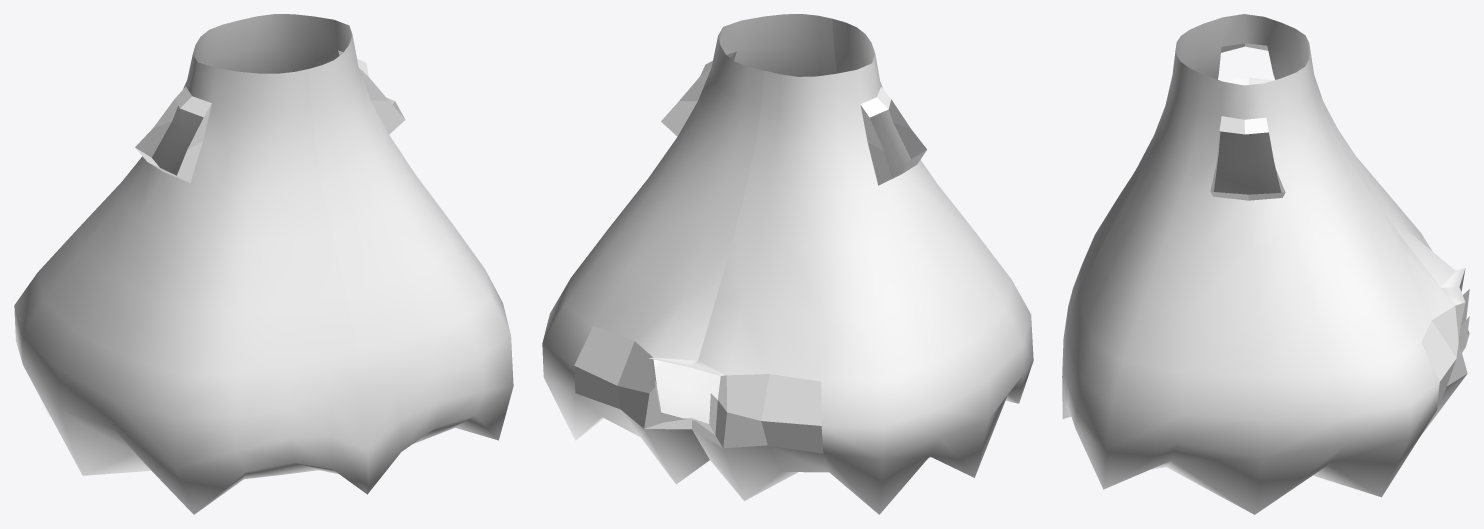
Rendered from body.obj.
3 views of the same model, side by side, from view 1: azimuth 30°, elevation 25°; view 2: azimuth 150°, elevation 25°; view 3: azimuth 270°, elevation 25° (orthographic). The views are drawn at different scales.
Visible parts, largest first — view 1: pasted__pCube28 group; view 2: pasted__pCube28 group; view 3: pasted__pCube28 group.
Boxes of the visible parts, x1,y1,x2,y2 form: pasted__pCube28 group: [14, 14, 513, 514]; pasted__pCube28 group: [542, 14, 1033, 514]; pasted__pCube28 group: [1062, 14, 1469, 514].
Bounding box in the file's own units: 6.4 × 5.84 × 5.7.
Materials: 1 (1 with a texture image).
